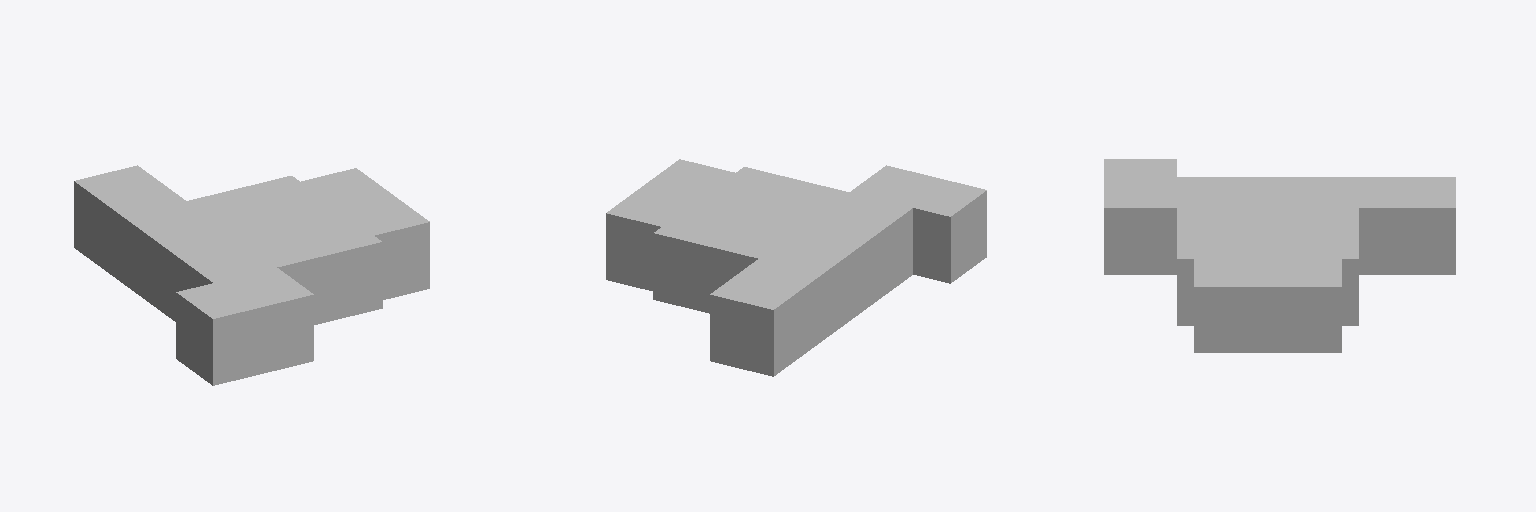
Rendered from CloudV2.obj.
The picture shows the model from 3 angles: view 1: azimuth 30°, elevation 25°; view 2: azimuth 150°, elevation 25°; view 3: azimuth 270°, elevation 25°; orthographic projection.
Visible parts, largest first — view 1: pCube2; view 2: pCube2; view 3: pCube2.
Boxes of the visible parts, x1=… form: pCube2: x1=74, y1=165, x2=429, y2=385; pCube2: x1=606, y1=159, x2=986, y2=376; pCube2: x1=1104, y1=159, x2=1455, y2=352.
Size of the model in its own units: 2.06 by 0.5 by 2.39.